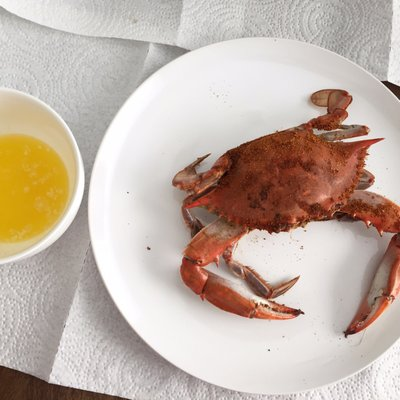sushi: (0, 87, 86, 266)
